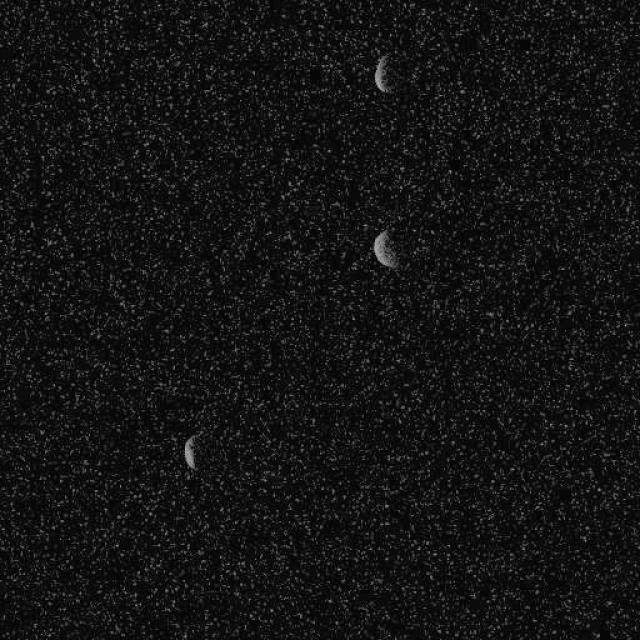D2: (371, 229, 400, 269), (372, 54, 392, 94), (182, 434, 198, 470)
